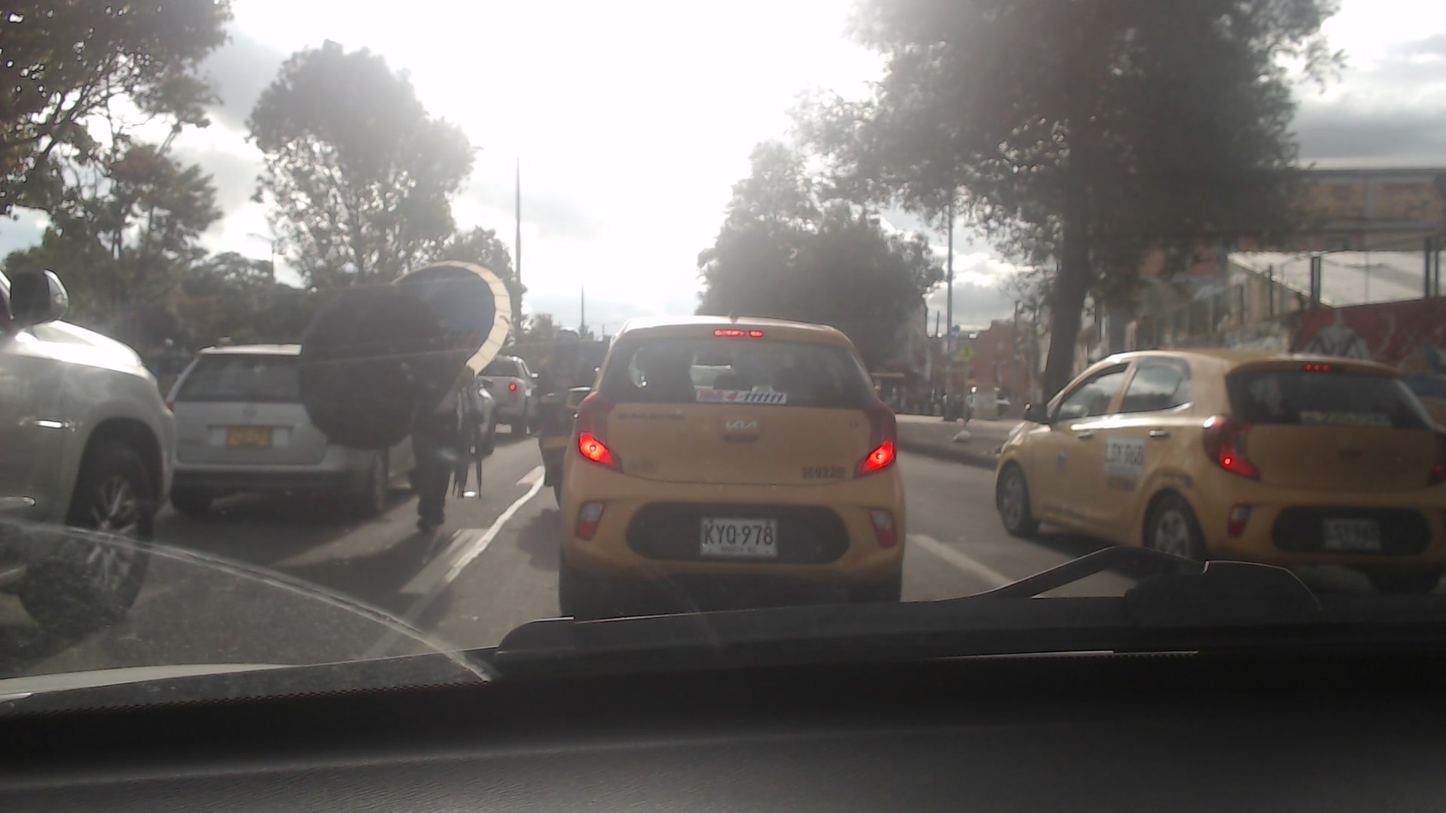car: (982, 347, 1444, 595), (566, 321, 904, 601), (165, 342, 398, 503)
person: (539, 329, 599, 430)
